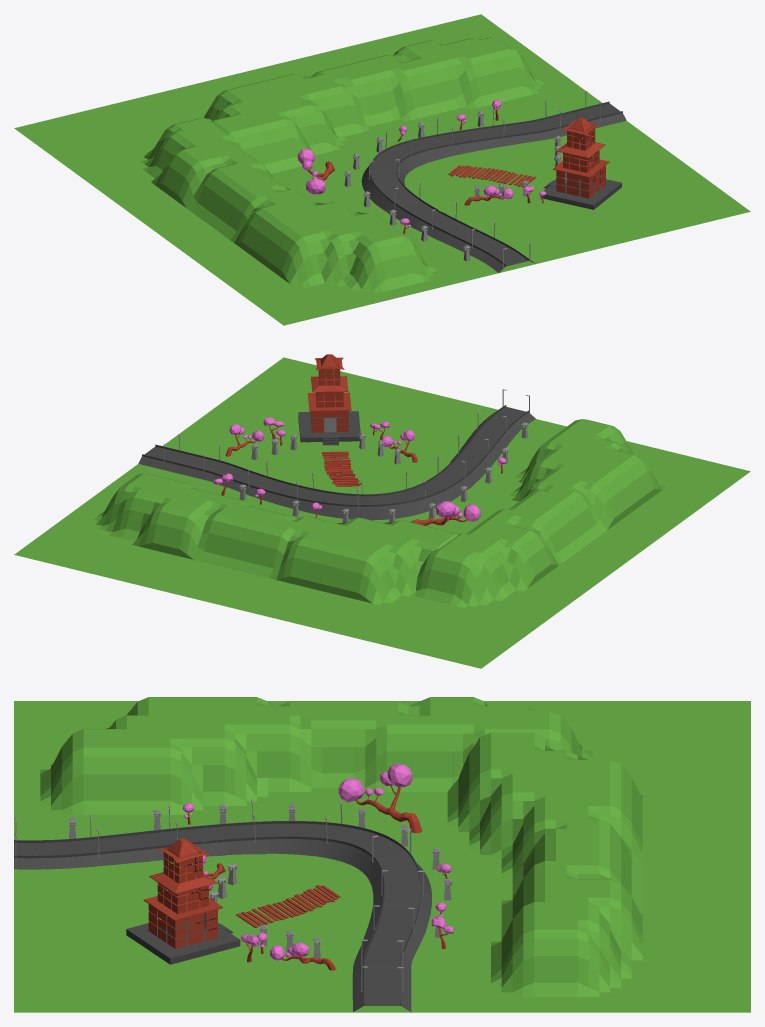
3 views of the same model, one above another, from view 1: azimuth 30°, elevation 25°; view 2: azimuth 150°, elevation 25°; view 3: azimuth 270°, elevation 25° (orthographic). The views are drawn at different scales.
Parts seen in each view (by area): view 1: Plane.004; view 2: Plane.004; view 3: Plane.004.
Part boxes in pixels (x1,y1,x2,y2): Plane.004: (14,14,750,325); Plane.004: (14,354,750,668); Plane.004: (14,697,750,1012).
Size of the model in its own units: 20000 by 3083 by 20000.
